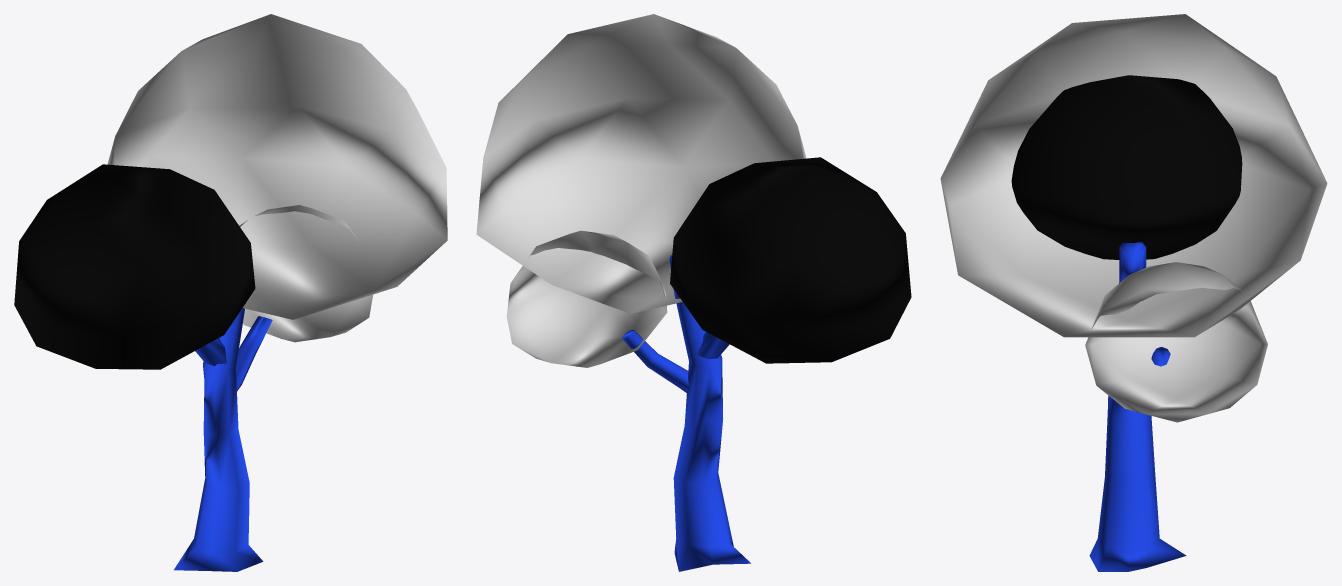
Rendered from tree_1_smooth.glb.
3 views of the same model, side by side, from view 1: azimuth 30°, elevation 25°; view 2: azimuth 150°, elevation 25°; view 3: azimuth 270°, elevation 25° (orthographic). The views are drawn at different scales.
Visible parts, largest first — view 1: Icosphere, Icosphere001, Cylinder, Icosphere002; view 2: Icosphere, Icosphere001, Cylinder, Icosphere002; view 3: Icosphere, Icosphere001, Icosphere002, Cylinder.
Boxes of the visible parts, x1,y1,x2,y2 form: Icosphere: (107,14,447,319); Icosphere001: (14,164,255,369); Cylinder: (174,303,272,571); Icosphere002: (239,205,372,342); Icosphere: (476,14,806,313); Icosphere001: (670,157,911,363); Cylinder: (622,255,750,571); Icosphere002: (506,230,667,367); Icosphere: (940,14,1327,337); Icosphere001: (1011,75,1242,259); Icosphere002: (1085,262,1267,422); Cylinder: (1089,242,1186,571).
Bounding box in the file's own units: 8.38 × 10.56 × 6.64.
